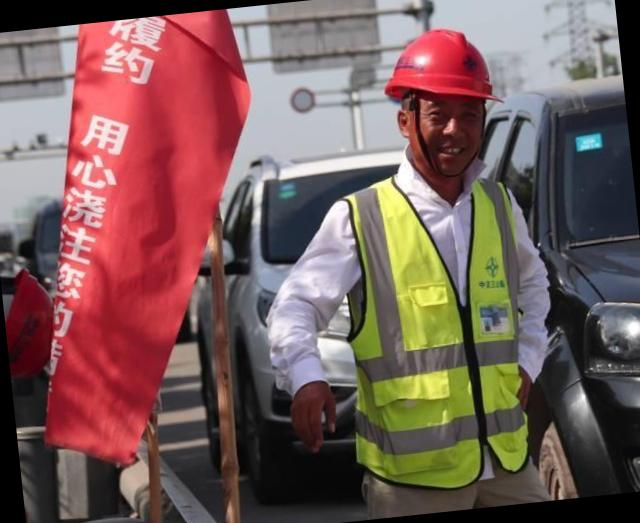Vest: (326, 162, 552, 496)
